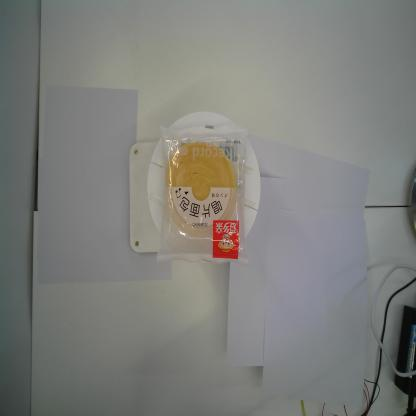Dessert: (155, 119, 253, 269)
